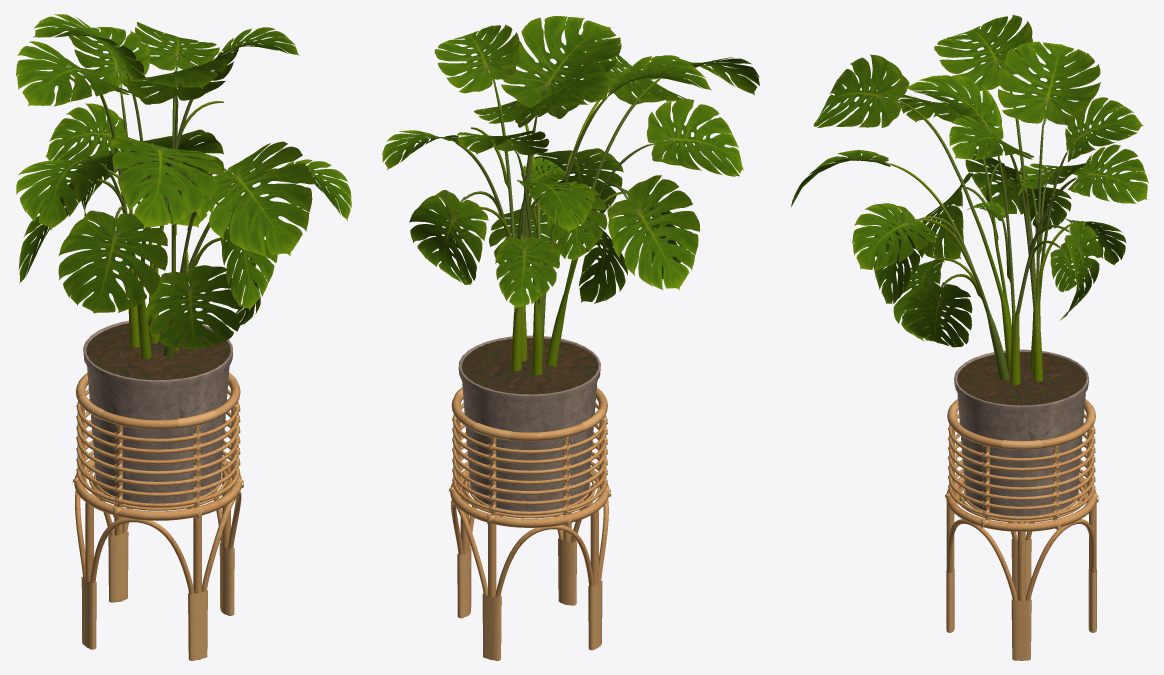
The model's file is potted-plant-3.gltf.
The picture shows the model from 3 angles, left to right: view 1: azimuth 30°, elevation 25°; view 2: azimuth 150°, elevation 25°; view 3: azimuth 270°, elevation 25°; orthographic projection. The views are drawn at different scales.
Parts seen in each view (by area): view 1: PottedPlant3; view 2: PottedPlant3; view 3: PottedPlant3.
Boxes of the visible parts, box(x1,y1,x2,y2) form: PottedPlant3: box(16, 14, 351, 660); PottedPlant3: box(382, 16, 759, 660); PottedPlant3: box(791, 15, 1148, 660).
Bounding box in the file's own units: 0.6181 × 1.22 × 0.7187.
Materials: 2 (2 with a texture image).
